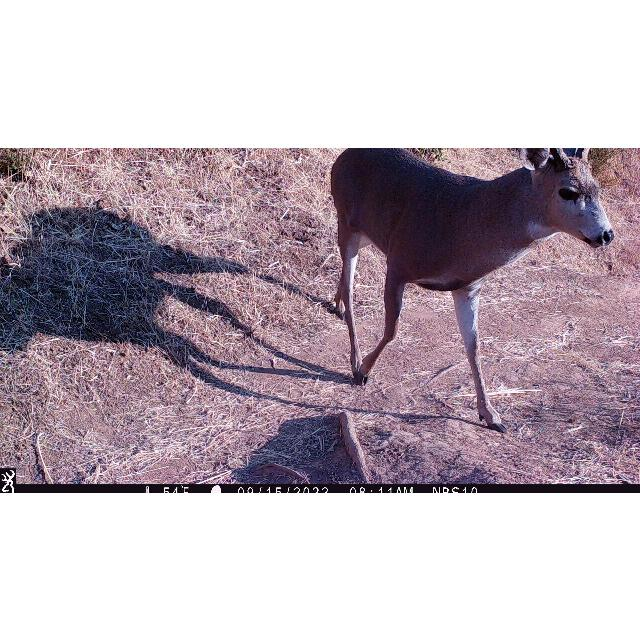animals: (326, 147, 614, 431)
